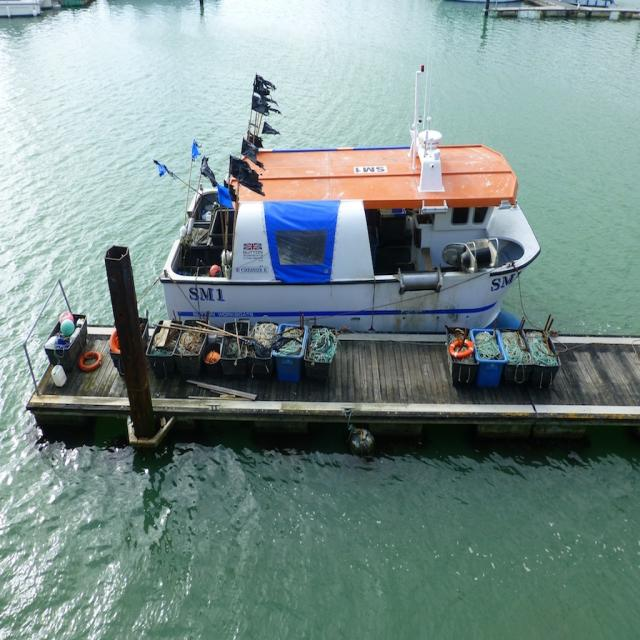Boat: (144, 50, 546, 398), (0, 0, 64, 18)
